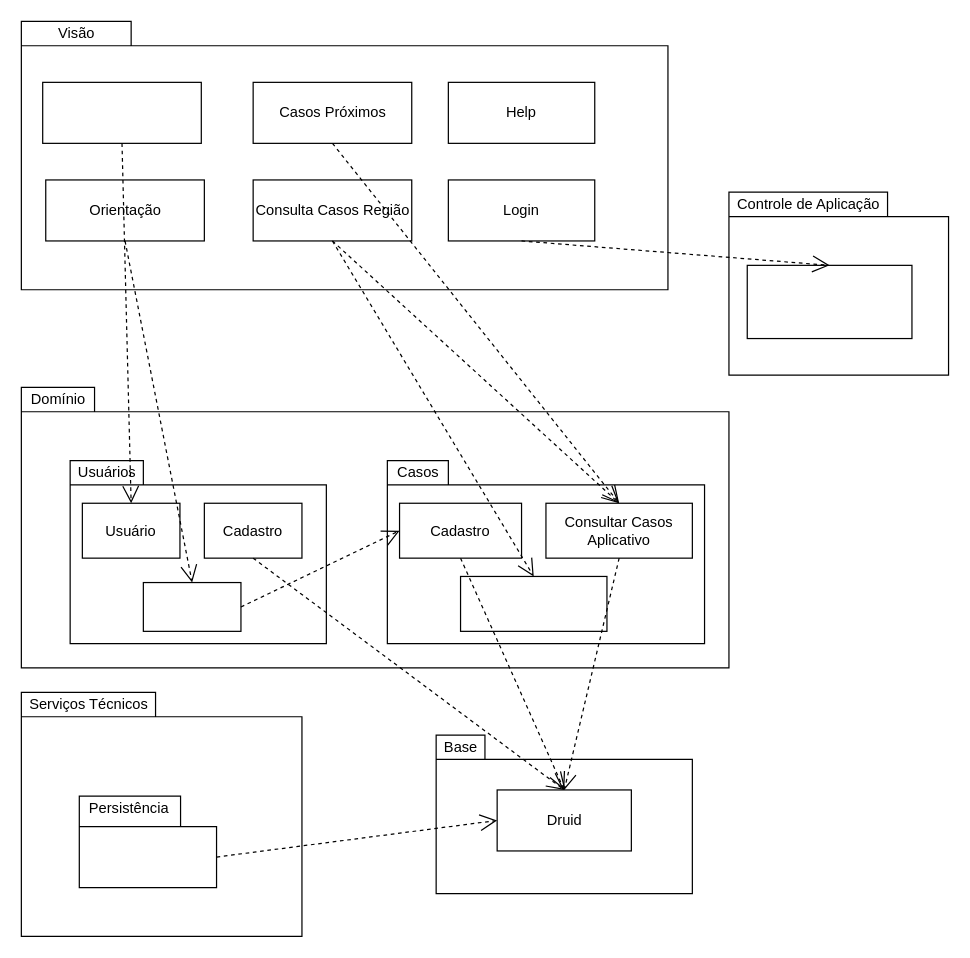
Image size: 970x958. Some labels were removed from this diagram. The box of each missing label's shape, as (x1, y1, x2, y2) in pixels:
Cadastro Usuário: (41, 81, 201, 143)
Consultar Casos Governo: (459, 575, 607, 631)
Diagnóstico: (142, 581, 241, 631)
Fachada BD: (78, 795, 217, 888)
SessãoUsuário: (746, 264, 912, 339)
